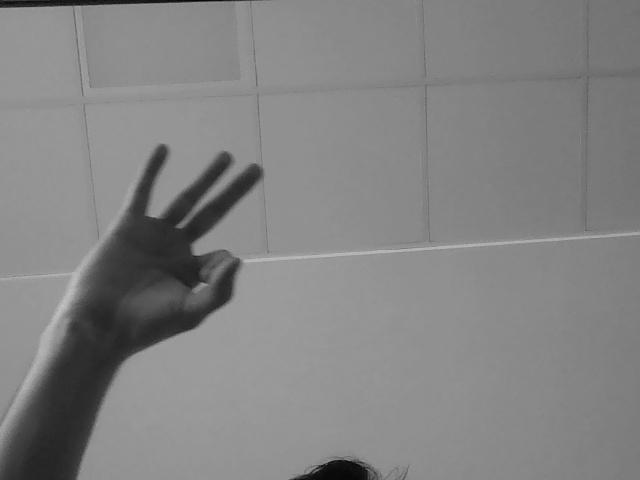OK: (94, 143, 266, 327)
